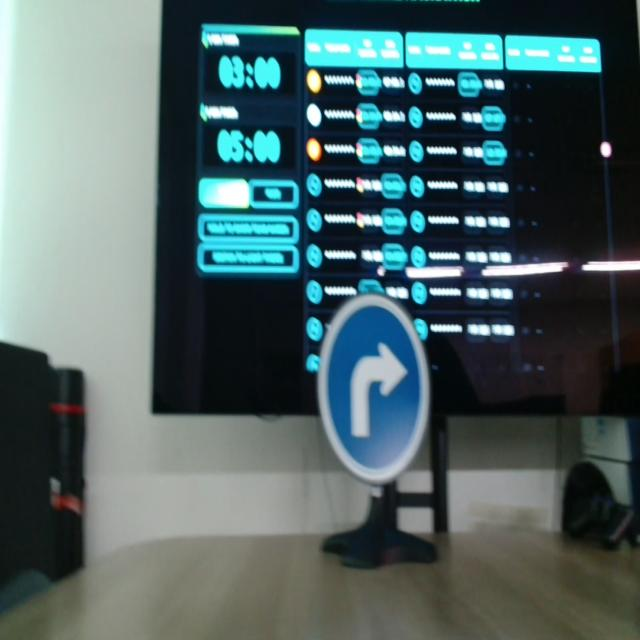right_dierection: (317, 290, 431, 492)
